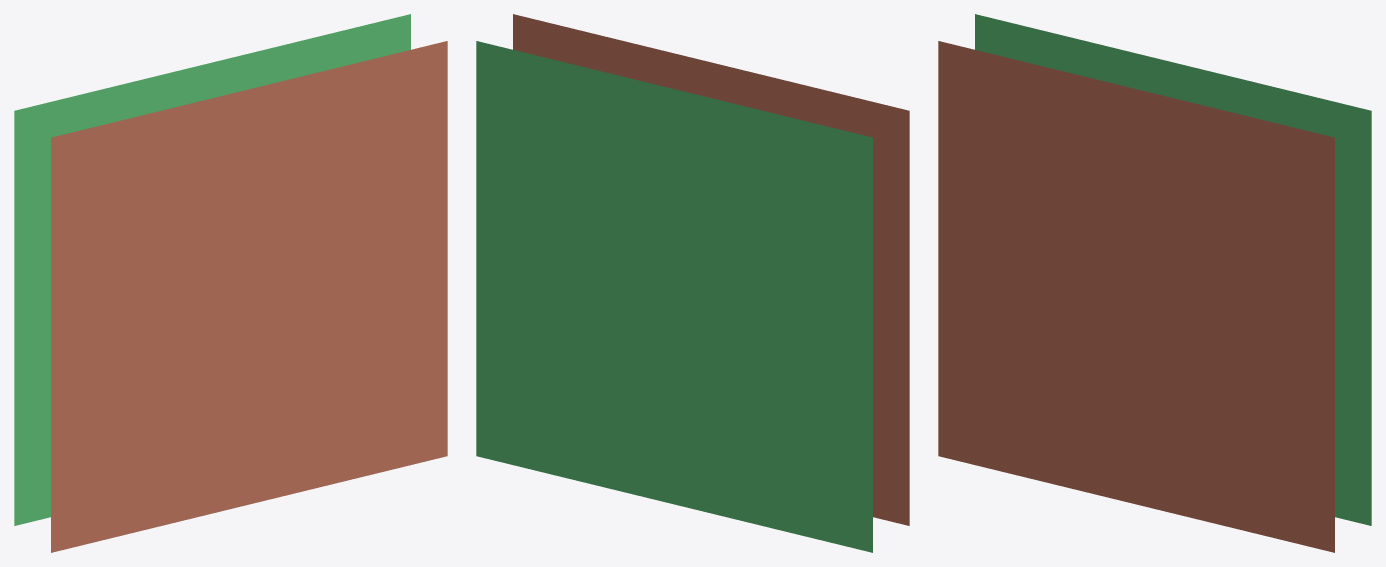
Rendered from 01_basic_horizontal.glb.
The picture shows the model from 3 angles, left to right: view 1: azimuth 30°, elevation 25°; view 2: azimuth 150°, elevation 25°; view 3: azimuth 330°, elevation 25°; orthographic projection.
Parts seen in each view (by area): view 1: surface1, surface2; view 2: surface2, surface1; view 3: surface1, surface2.
Part boxes in pixels (bbox=[...]): surface1: bbox=[51, 41, 447, 552]; surface2: bbox=[14, 14, 410, 525]; surface2: bbox=[476, 41, 872, 552]; surface1: bbox=[513, 14, 909, 525]; surface1: bbox=[938, 41, 1334, 552]; surface2: bbox=[975, 14, 1371, 525].
Bounding box in the file's own units: 937 × 937 × 150.
